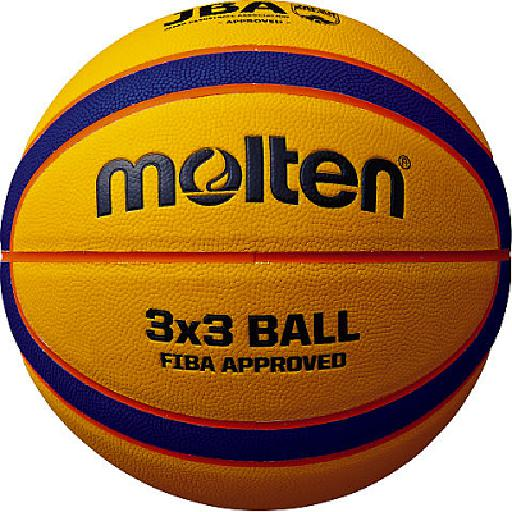ball: (1, 1, 512, 511)
